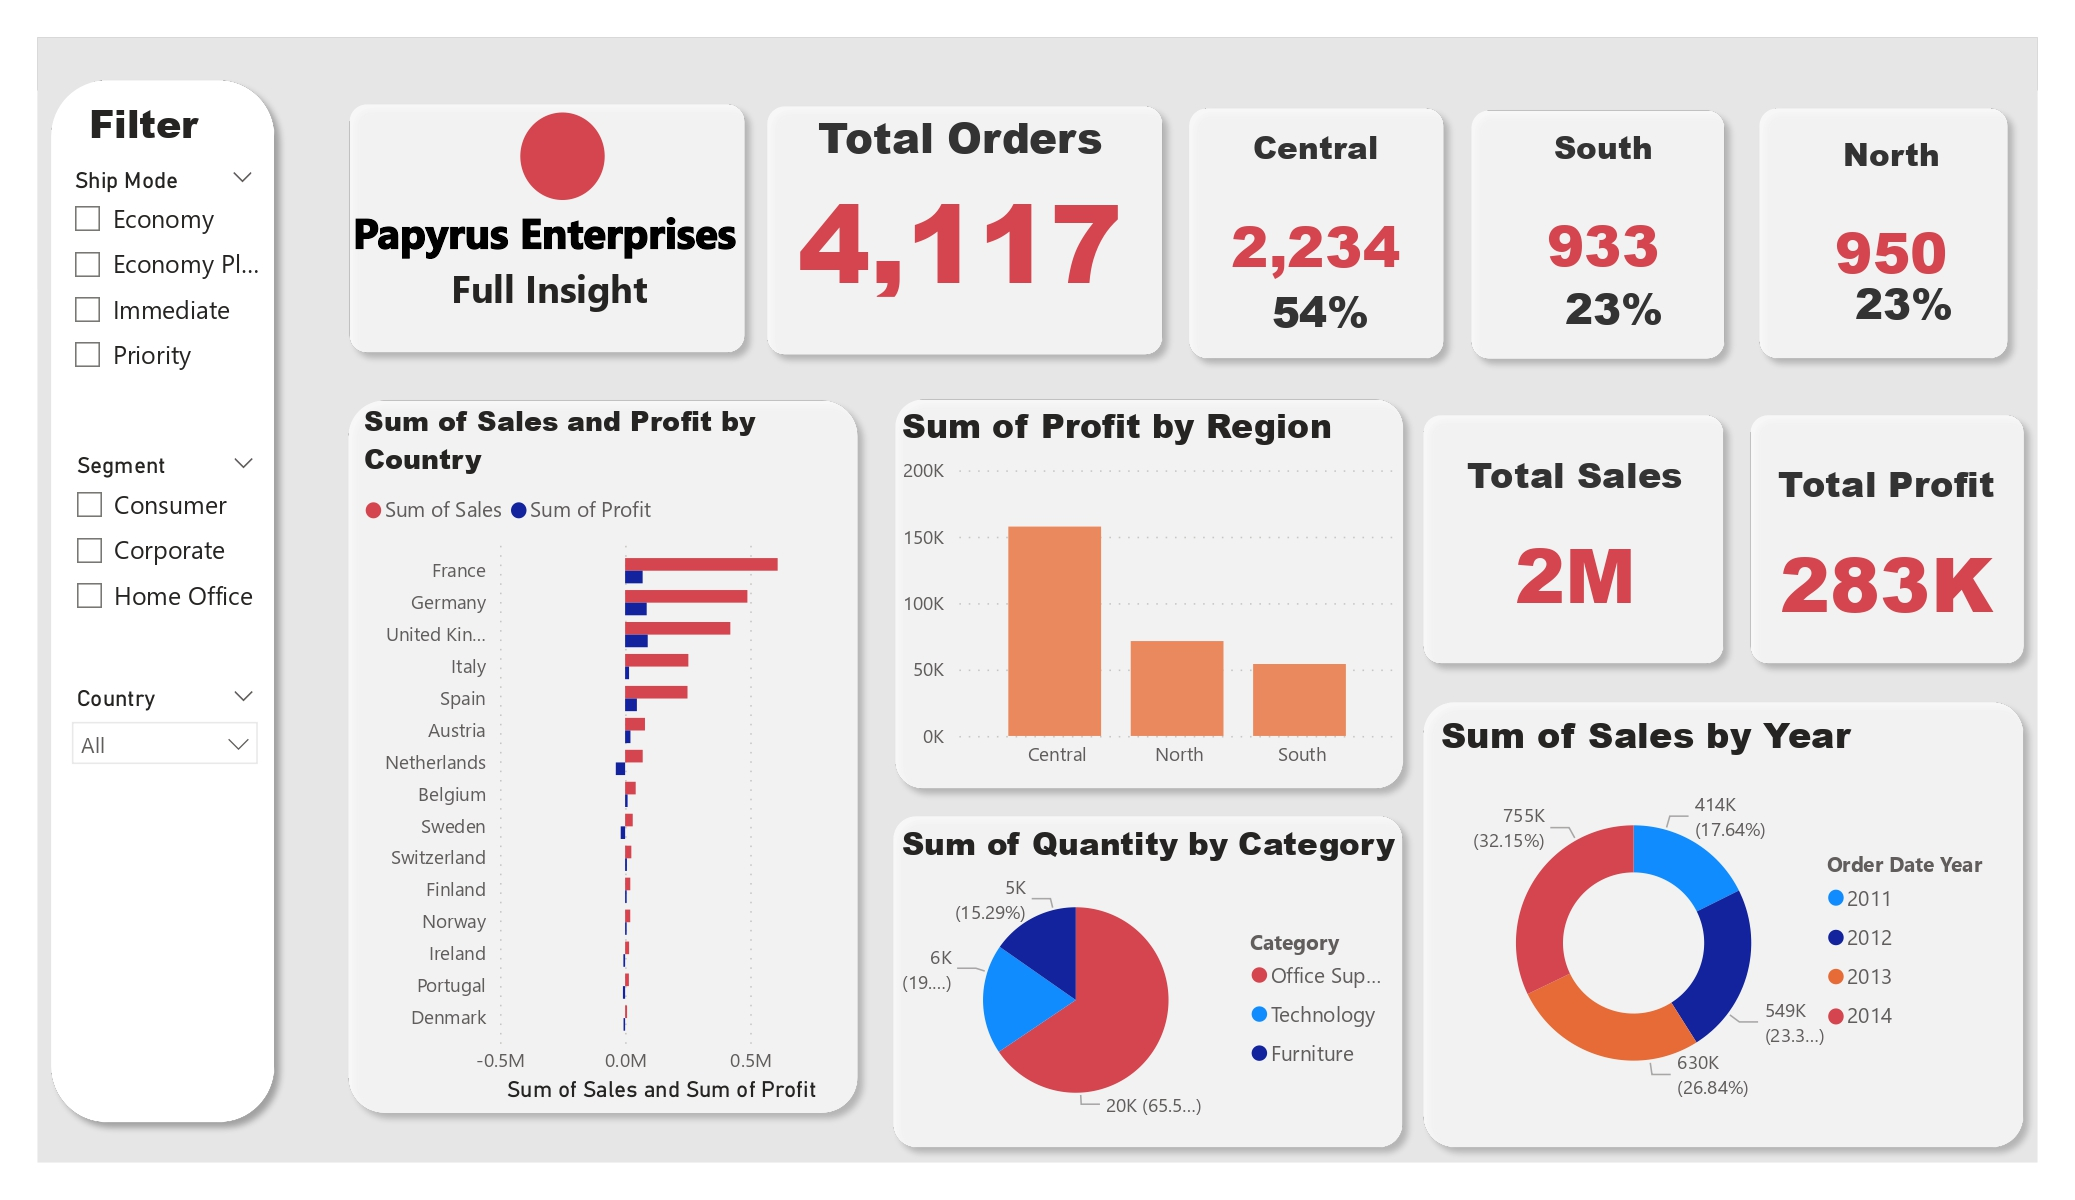

Layout of this report page (visuals, bound fields, positions):
{"tool":"powerbi","page":{"name":"Home","canvas":[1280,720],"ordinal":0},"visuals":[{"type":"shape","box":[191.3,33.8,271,177.2],"z":1000},{"type":"shape","box":[457.8,35.3,271,177.2],"z":2000},{"type":"shape","box":[728.3,36.3,180.7,177.2],"z":3000},{"type":"shape","box":[1093.3,36.3,177.2,177.2],"z":4000},{"type":"shape","box":[189.8,222.6,343.7,473.9],"z":5000},{"type":"shape","box":[539.6,223.3,343.7,266.5],"z":6000},{"type":"shape","box":[539.1,489.1,343.7,230.2],"z":7000},{"type":"shape","box":[878.2,233.2,209.5,177.2],"z":8000},{"type":"shape","box":[1086.7,233.2,192.8,177.2],"z":9000},{"type":"shape","box":[878.2,416.4,401.3,302.8],"z":10000},{"type":"textbox","box":[189.3,101.5,271,51.5],"z":11000},{"type":"textbox","box":[192.3,139.3,271,51.5],"z":12000},{"type":"shape","box":[308.9,48.5,54.5,56],"z":13000},{"type":"card","title":"Total Orders","fields":{"Values":["All Measures.Total orders"]},"box":[463.9,44.9,252.9,125.7],"z":14000},{"type":"card","title":"Central","fields":{"Values":["All Measures.Central"]},"box":[743.5,56,149.9,125.7],"z":15000},{"type":"card","title":"North","fields":{"Values":["All Measures.North"]},"box":[1125.1,59.6,122.7,125.7],"z":16000},{"type":"shape","box":[908.5,37.9,180.2,177.2],"z":17000},{"type":"card","title":"South","fields":{"Values":["All Measures.South"]},"box":[926.7,55.5,149.9,125.7],"z":18000},{"type":"card","title":"Central","fields":{"Values":["All Measures.% Central"]},"box":[763.7,148.4,114.6,56],"z":19000},{"type":"card","title":"Central","fields":{"Values":["All Measures.% South"]},"box":[951.4,145.9,115.1,56],"z":20000},{"type":"card","title":"Central","fields":{"Values":["All Measures.% North"]},"box":[1137.2,142.8,115.1,56],"z":21000},{"type":"card","title":"Total Sales","fields":{"Values":["All Measures.Total Sales"]},"box":[891.4,263.5,185.2,125.7],"z":22000},{"type":"card","title":"Total Profit","fields":{"Values":["All Measures.Total Profit"]},"box":[1097.3,268.5,172.6,125.7],"z":23000},{"type":"donutChart","fields":{"Category":["ListOfOrders.Order Date.Variation.Date Hierarchy.Year"],"Y":["Sum(OrderBreakdown.Sales)"]},"box":[893.4,430,372.5,266.5],"z":24000},{"type":"clusteredBarChart","title":"Sum of Sales and Profit by Country","fields":{"Category":["ListOfOrders.Country"],"Y":["Sum(OrderBreakdown.Sales)","Sum(OrderBreakdown.Profit)"]},"box":[204.4,233.2,318,452.7],"z":25000},{"type":"pieChart","fields":{"Category":["OrderBreakdown.Category"],"Y":["Sum(OrderBreakdown.Quantity)"]},"box":[548.1,501.2,328.6,201.4],"z":26000},{"type":"columnChart","fields":{"Category":["ListOfOrders.Region"],"Y":["Sum(OrderBreakdown.Profit)"]},"box":[548.1,233.2,328.6,243.8],"z":27000},{"type":"slicer","fields":{"Values":["ListOfOrders.Ship Mode"]},"box":[11,78,139,147],"z":28000},{"type":"slicer","fields":{"Values":["ListOfOrders.Segment"]},"box":[12,261,139,117],"z":29000},{"type":"textbox","box":[28,33,89,46],"z":30000},{"type":"slicer","fields":{"Values":["ListOfOrders.Country"]},"box":[11.8,410.3,139.8,66.6],"z":31000}]}

Visuals, with their boxes on the page's 1280x720 design canvas (x1, y1, x2, y2). These are canvas units, not pixel positions in the 2075x1200 screenshot, which may show the page scaled, cropped or inside an application window:
shape: (x1=191, y1=34, x2=462, y2=211)
shape: (x1=458, y1=35, x2=729, y2=212)
shape: (x1=728, y1=36, x2=909, y2=214)
shape: (x1=1093, y1=36, x2=1270, y2=214)
shape: (x1=190, y1=223, x2=534, y2=696)
shape: (x1=540, y1=223, x2=883, y2=490)
shape: (x1=539, y1=489, x2=883, y2=719)
shape: (x1=878, y1=233, x2=1088, y2=410)
shape: (x1=1087, y1=233, x2=1280, y2=410)
shape: (x1=878, y1=416, x2=1280, y2=719)
textbox: (x1=189, y1=102, x2=460, y2=153)
textbox: (x1=192, y1=139, x2=463, y2=191)
shape: (x1=309, y1=48, x2=363, y2=104)
"Total Orders" card: (x1=464, y1=45, x2=717, y2=171)
"Central" card: (x1=744, y1=56, x2=893, y2=182)
"North" card: (x1=1125, y1=60, x2=1248, y2=185)
shape: (x1=908, y1=38, x2=1089, y2=215)
"South" card: (x1=927, y1=56, x2=1077, y2=181)
"Central" card: (x1=764, y1=148, x2=878, y2=204)
"Central" card: (x1=951, y1=146, x2=1066, y2=202)
"Central" card: (x1=1137, y1=143, x2=1252, y2=199)
"Total Sales" card: (x1=891, y1=264, x2=1077, y2=389)
"Total Profit" card: (x1=1097, y1=268, x2=1270, y2=394)
donutChart - ListOfOrders.Order Date.Variation.Date Hierarchy.Year x Sum(OrderBreakdown.Sales): (x1=893, y1=430, x2=1266, y2=696)
"Sum of Sales and Profit by Country" clusteredBarChart: (x1=204, y1=233, x2=522, y2=686)
pieChart - OrderBreakdown.Category x Sum(OrderBreakdown.Quantity): (x1=548, y1=501, x2=877, y2=703)
columnChart - ListOfOrders.Region x Sum(OrderBreakdown.Profit): (x1=548, y1=233, x2=877, y2=477)
slicer - ListOfOrders.Ship Mode: (x1=11, y1=78, x2=150, y2=225)
slicer - ListOfOrders.Segment: (x1=12, y1=261, x2=151, y2=378)
textbox: (x1=28, y1=33, x2=117, y2=79)
slicer - ListOfOrders.Country: (x1=12, y1=410, x2=152, y2=477)
